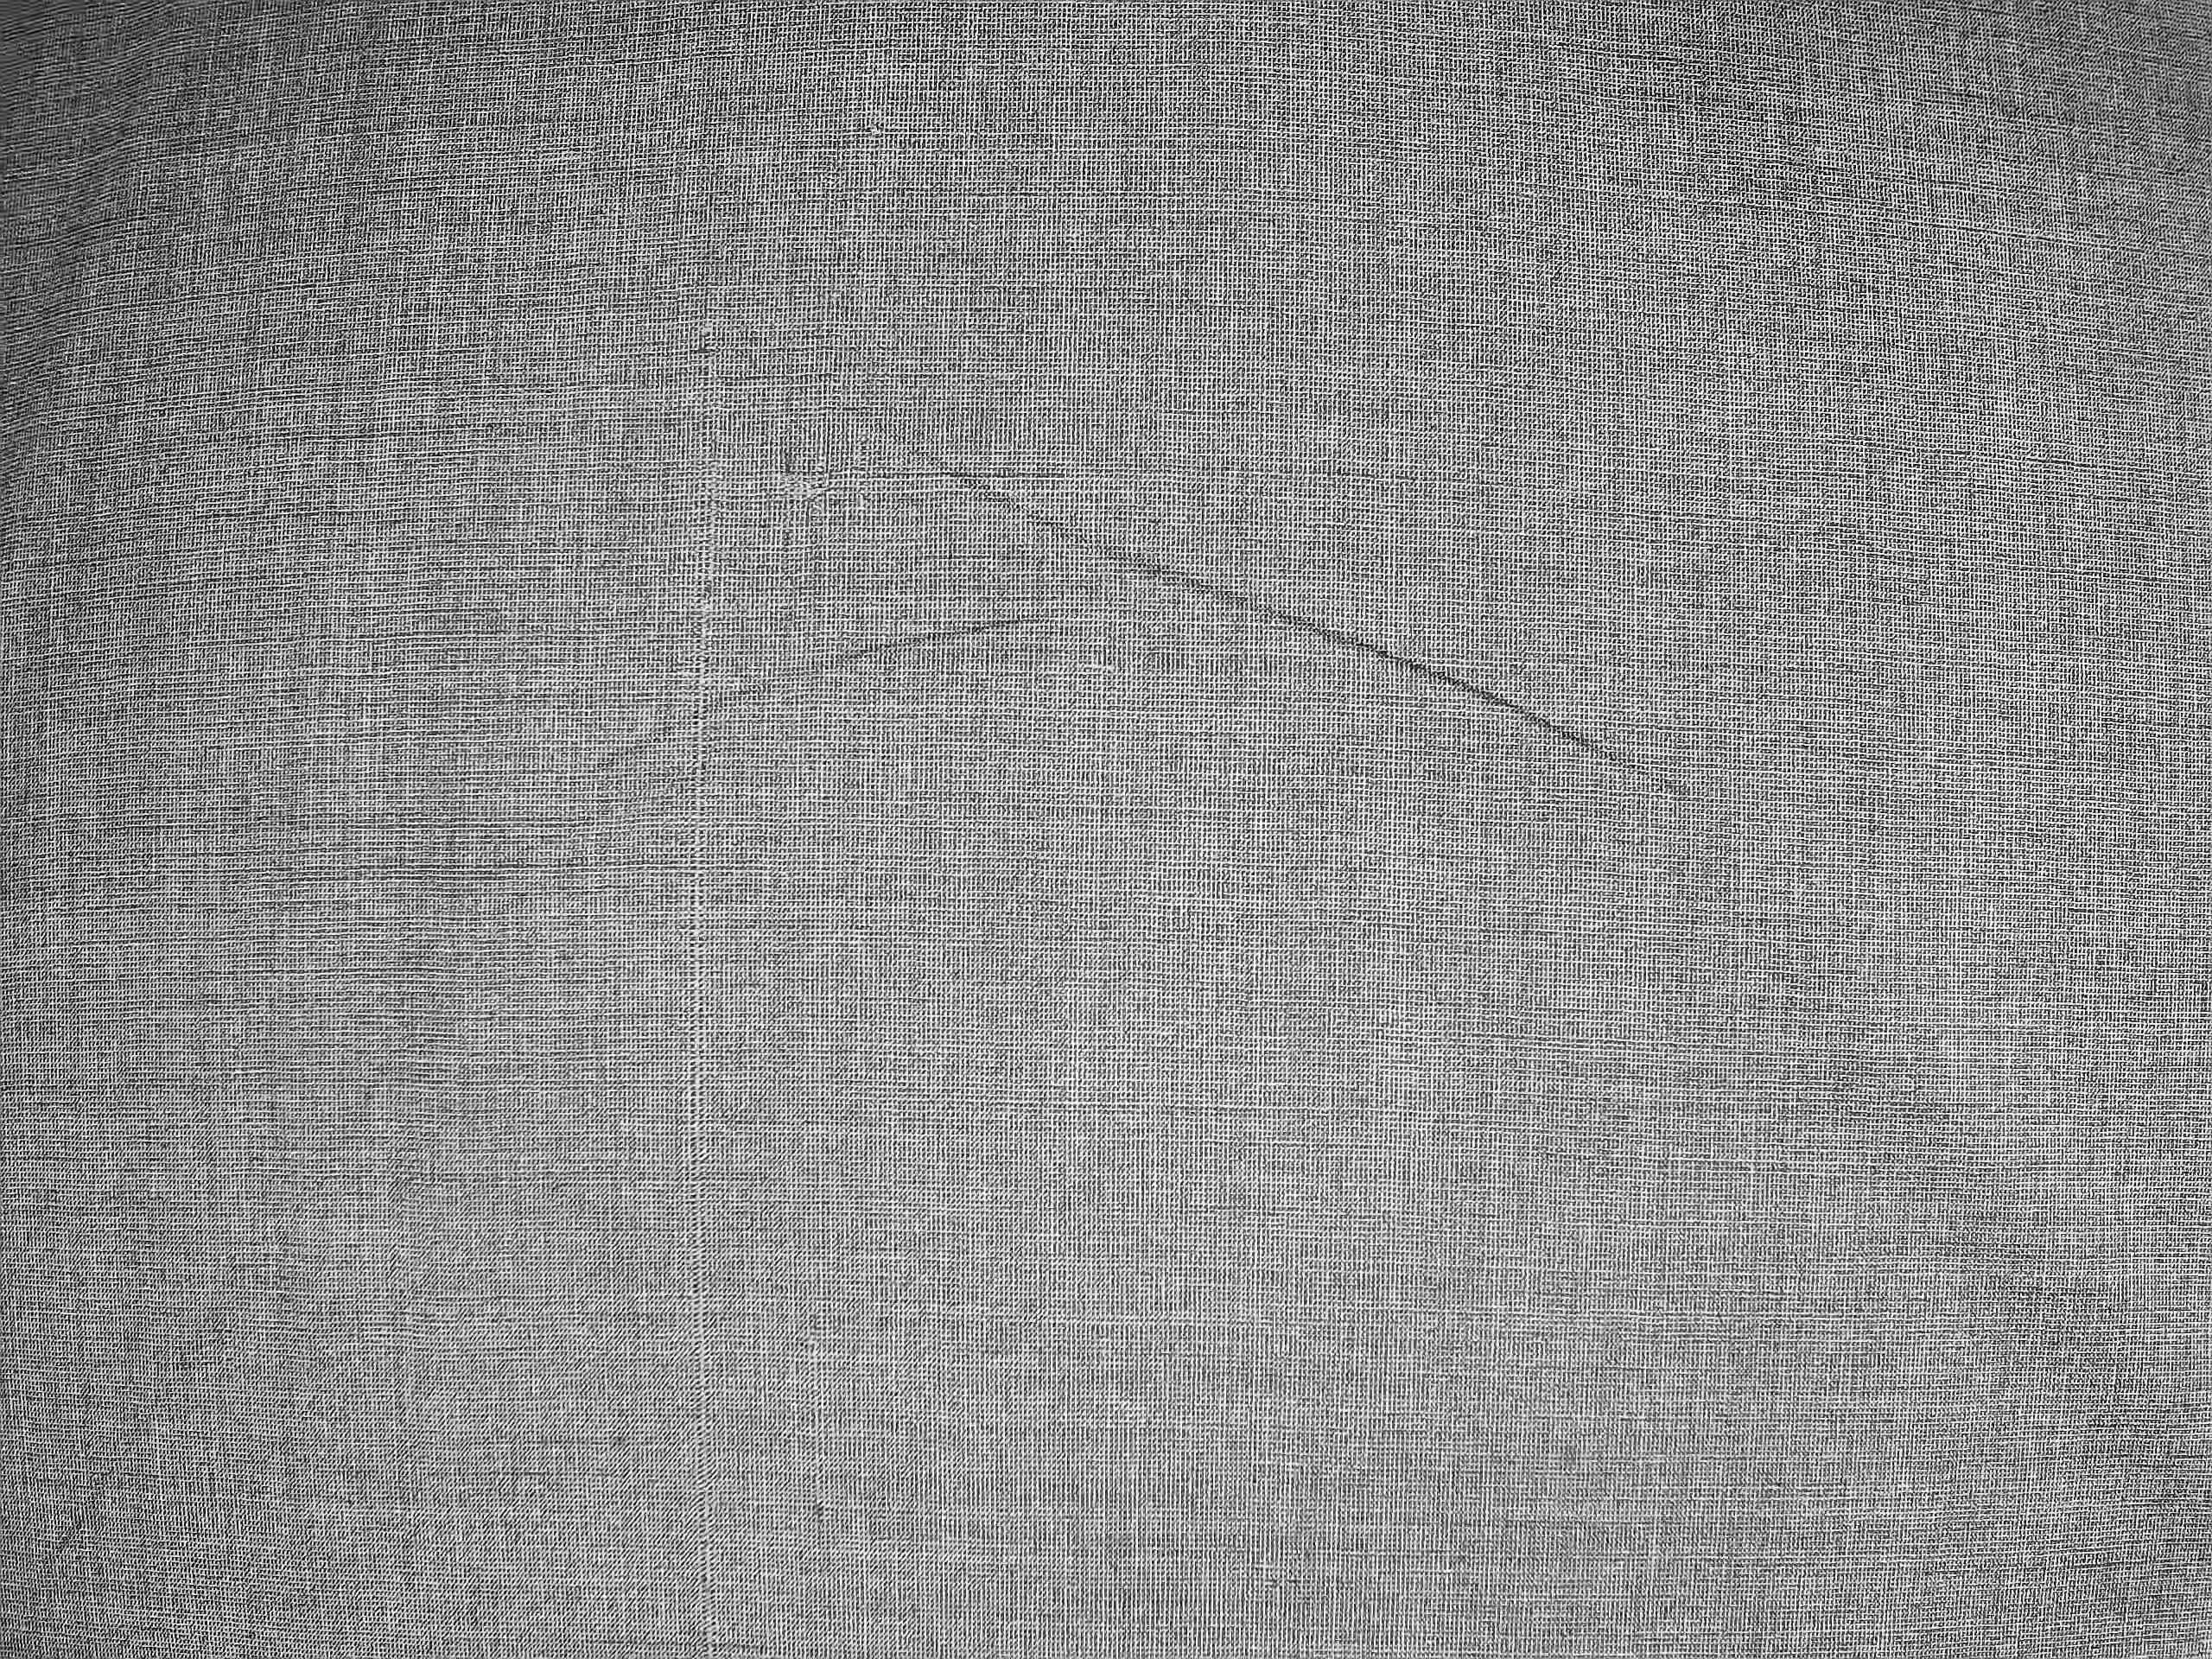lacking-warp: (678, 559, 725, 1291)
